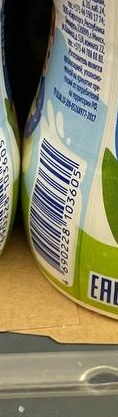1d: (28, 135, 76, 273)
